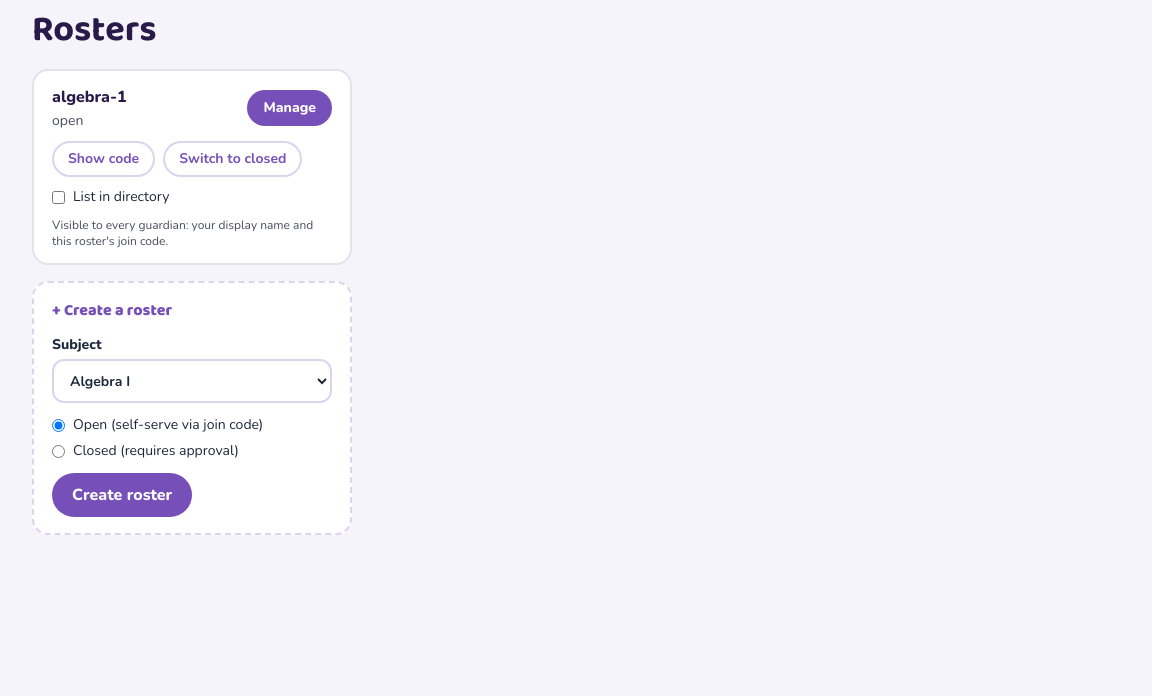
RostersFlow per-assignment results view › closes the results table when 'Close' is clicked
Click the button "Manage" at (290, 108), box [248, 90, 332, 126]
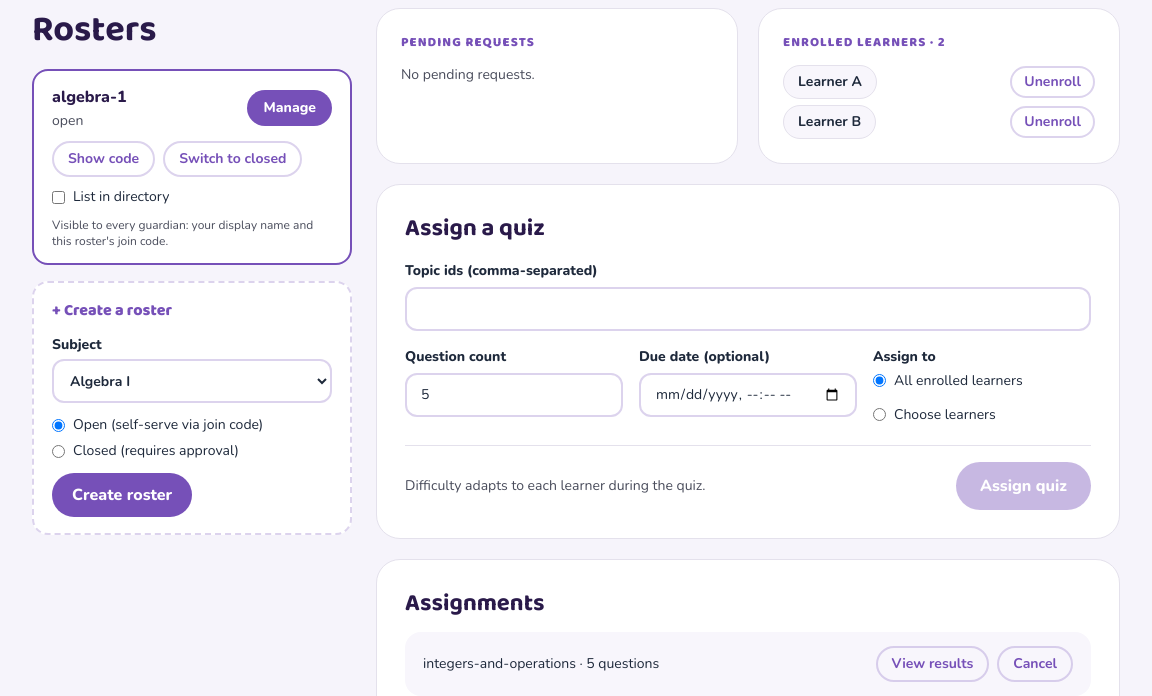
Click the button "View results" at (932, 664), box [876, 646, 989, 682]
(page scrolled)
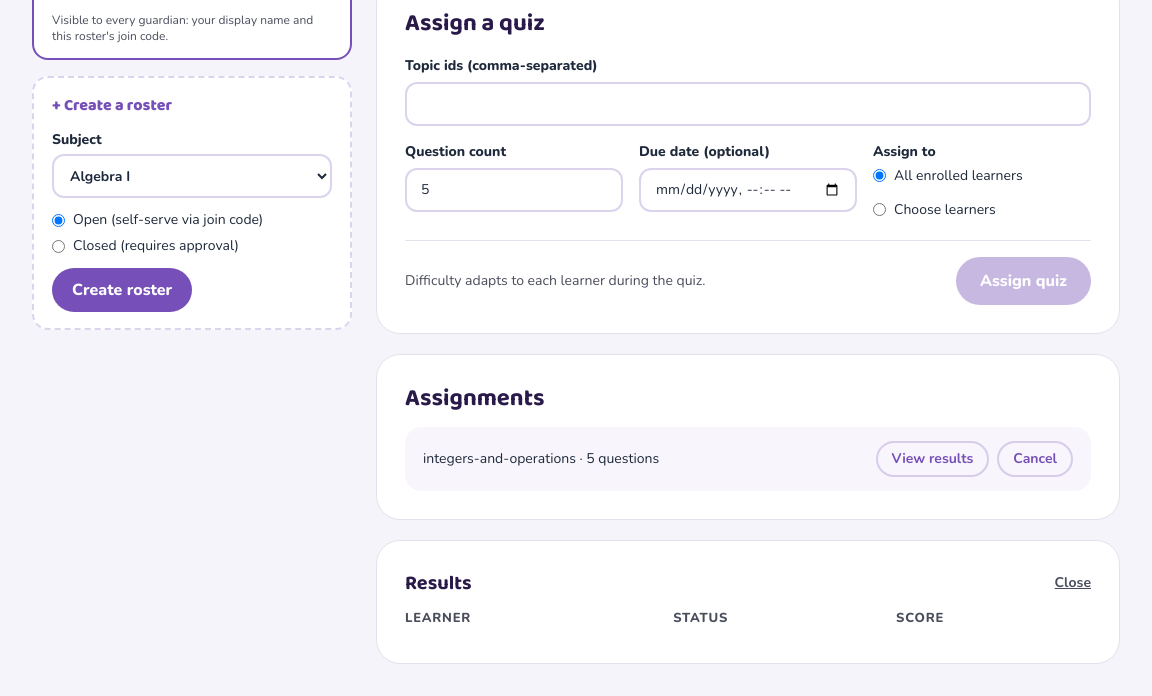
expect the element with test id "assignment-results" is shown: met, box [376, 540, 1120, 664]
Click the button "Close" at (1073, 582), box [1055, 572, 1091, 592]
(page scrolled)
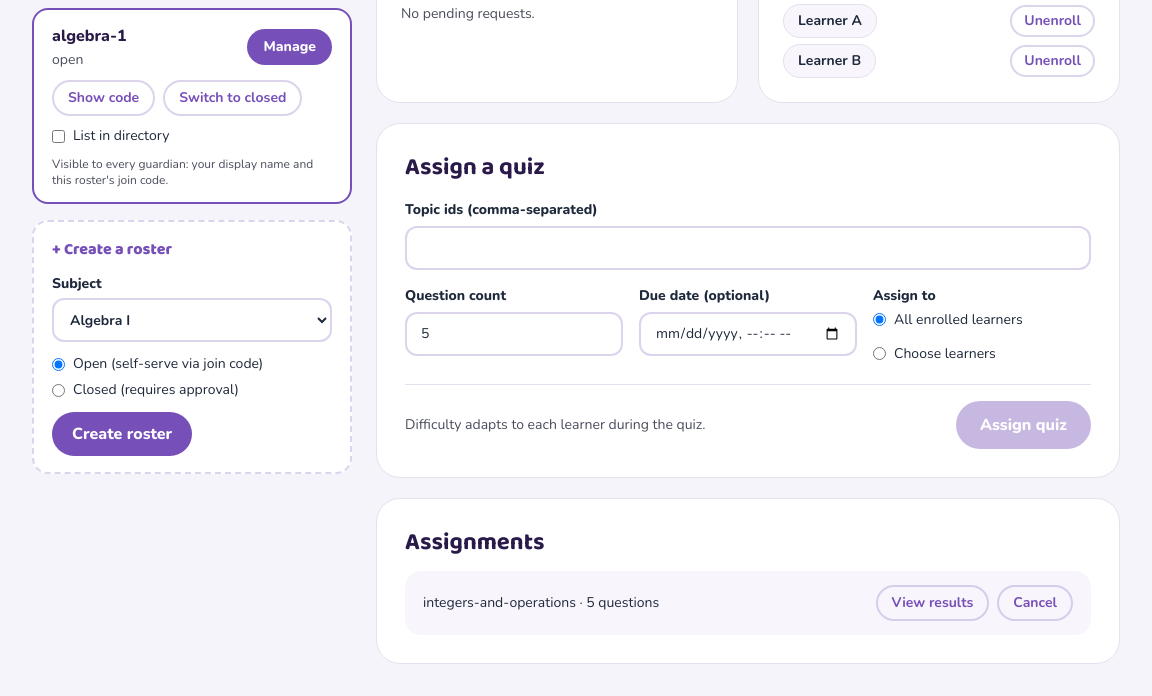
expect the element with test id "assignment-results" is gone: met
